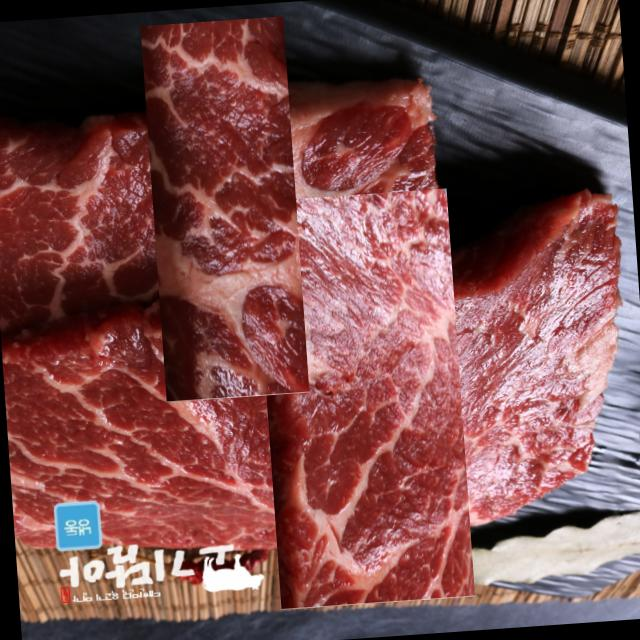beef: (202, 237, 524, 558), (85, 70, 364, 348)
